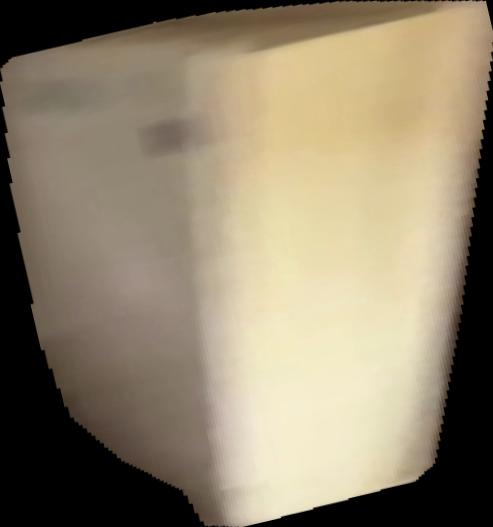backward: (1, 1, 493, 527)
